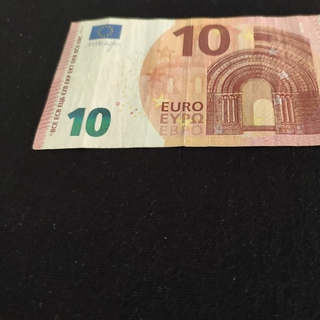10EUROFront: (31, 12, 320, 151)
